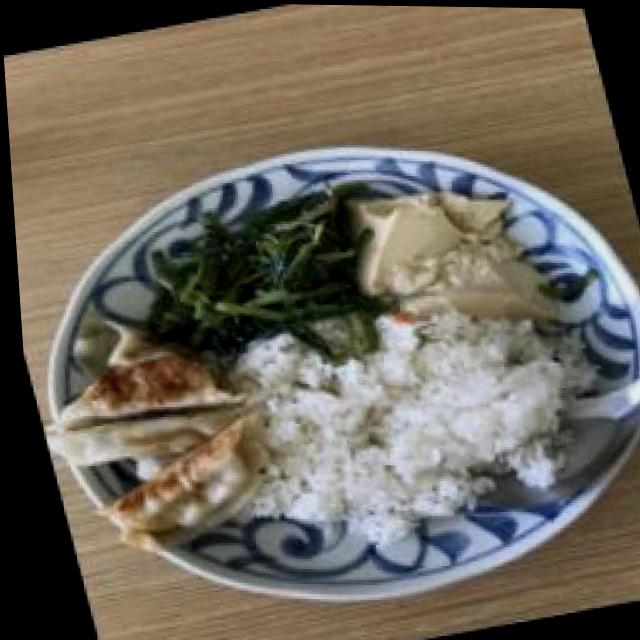fried_dumplings: (23, 295, 281, 566)
rice: (225, 290, 573, 539)
water_spinach: (117, 183, 374, 364)
